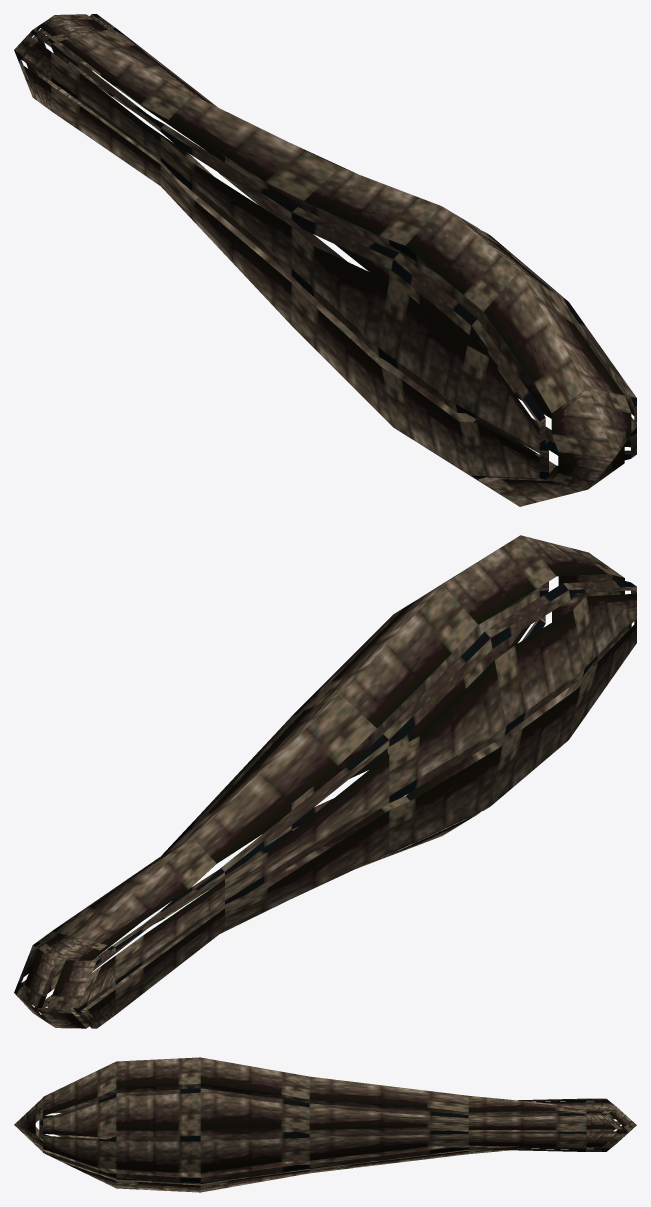
3 renders of one model, top to bottom at view 1: azimuth 30°, elevation 25°; view 2: azimuth 150°, elevation 25°; view 3: azimuth 270°, elevation 25°, orthographic. The views are drawn at different scales.
Visible parts, largest first — view 1: T1L2M006_9; view 2: T1L2M006_9; view 3: T1L2M006_9.
Part boxes in pixels (x1,y1,x2,y2): T1L2M006_9: (14, 14, 636, 506); T1L2M006_9: (14, 535, 636, 1028); T1L2M006_9: (14, 1057, 636, 1192).
Size of the model in its own units: 0.1592 by 0.2959 by 1.24.
